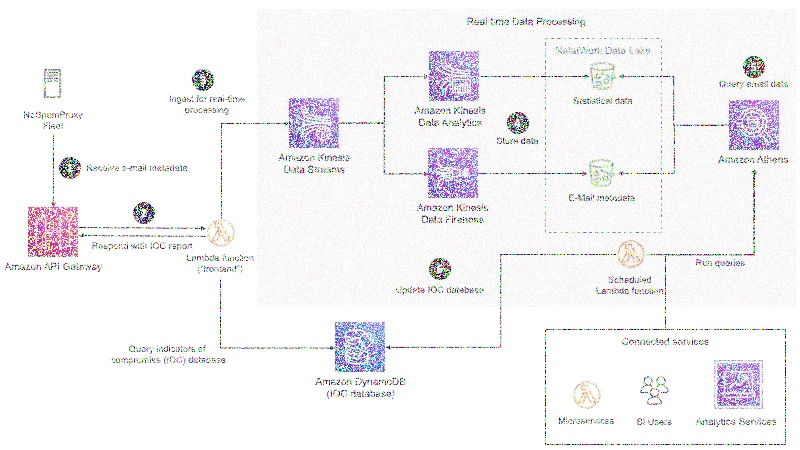API-Gateway: (23, 203, 84, 260)
Analytics Services: (708, 355, 768, 415)
Athena: (724, 96, 787, 154)
Dynamo DB: (329, 319, 393, 378)
Kinesis Data Streams: (286, 92, 345, 153), (425, 141, 483, 203), (424, 45, 483, 105)
Lambda: (568, 371, 612, 414), (614, 234, 648, 270), (204, 215, 238, 250)
S3: (586, 61, 619, 93), (588, 155, 618, 189)
Users: (636, 368, 672, 409)
